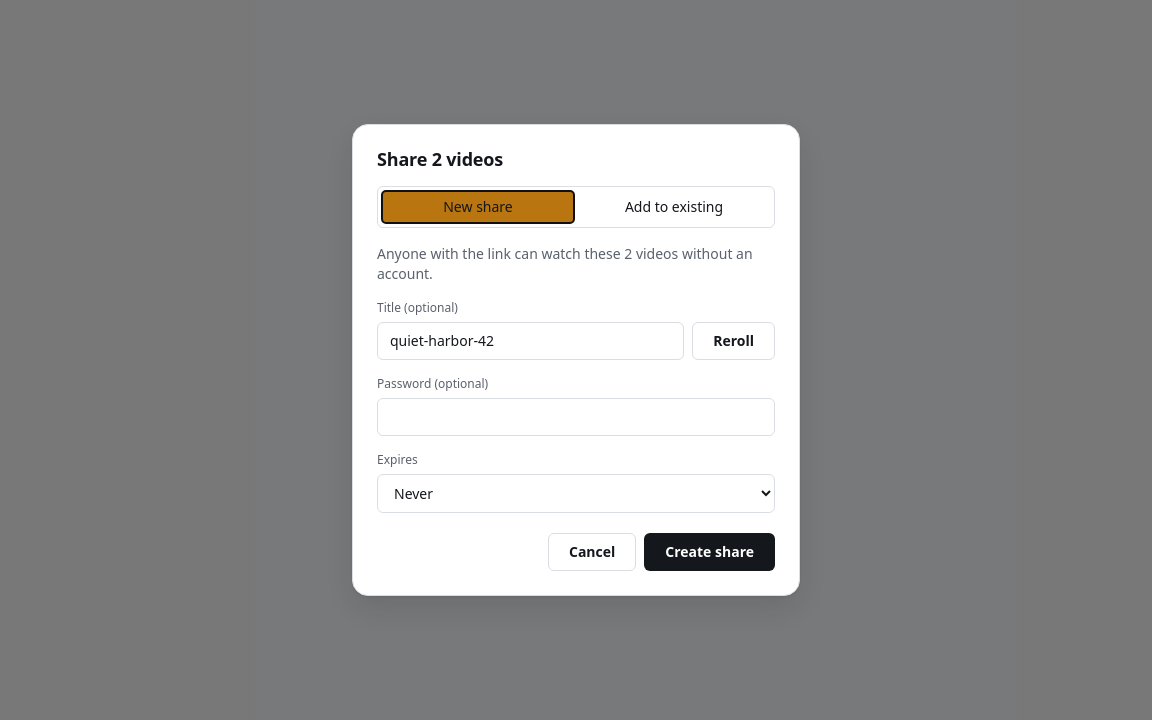
Test: ShareDialog › sends exactly one POST with ids, trimmed title, password, and preset expiry
The image size is (1152, 720).
Replace the text in the field labelled "Title (optional)" with "  Trip footage  " at (531, 341), box [377,322,684,360]
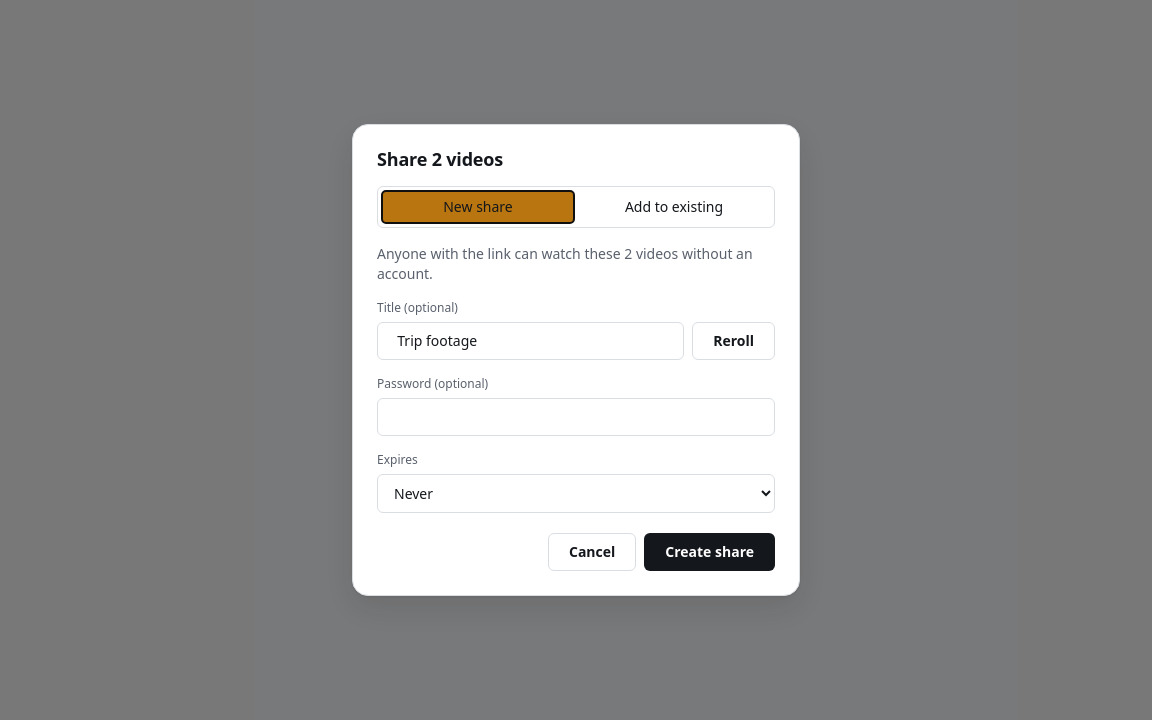
Type "hunter22" into the password field labelled "Password (optional)".
click(576, 417); type("hunter22")  # box [377,398,775,436]
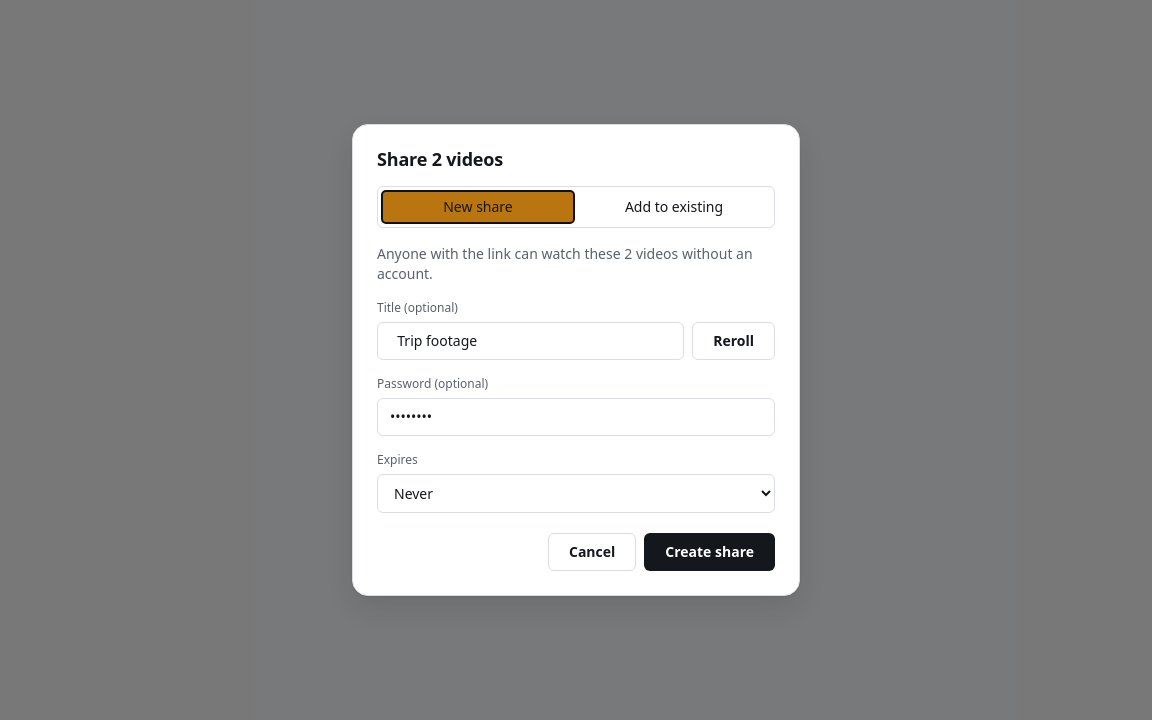
Select "7 days" in the dropdown labelled "Expires" at (576, 494), box [377,474,775,513]
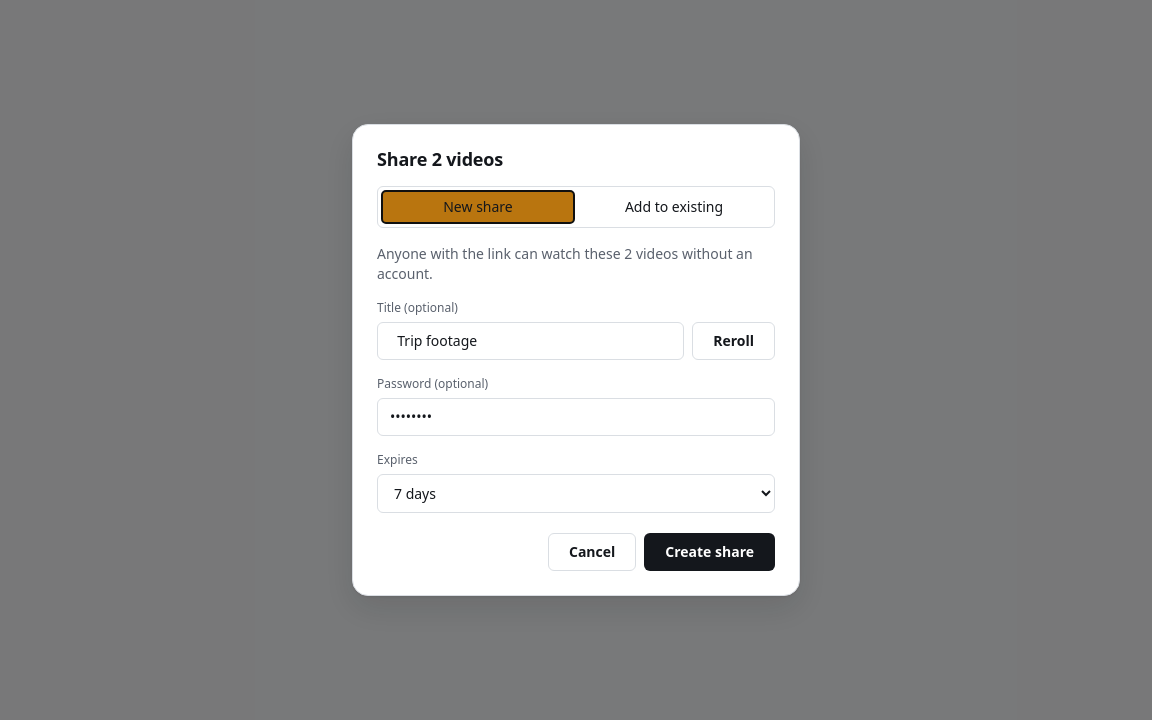
Click the button "Create share".
click(710, 552)  # box [644,533,775,571]
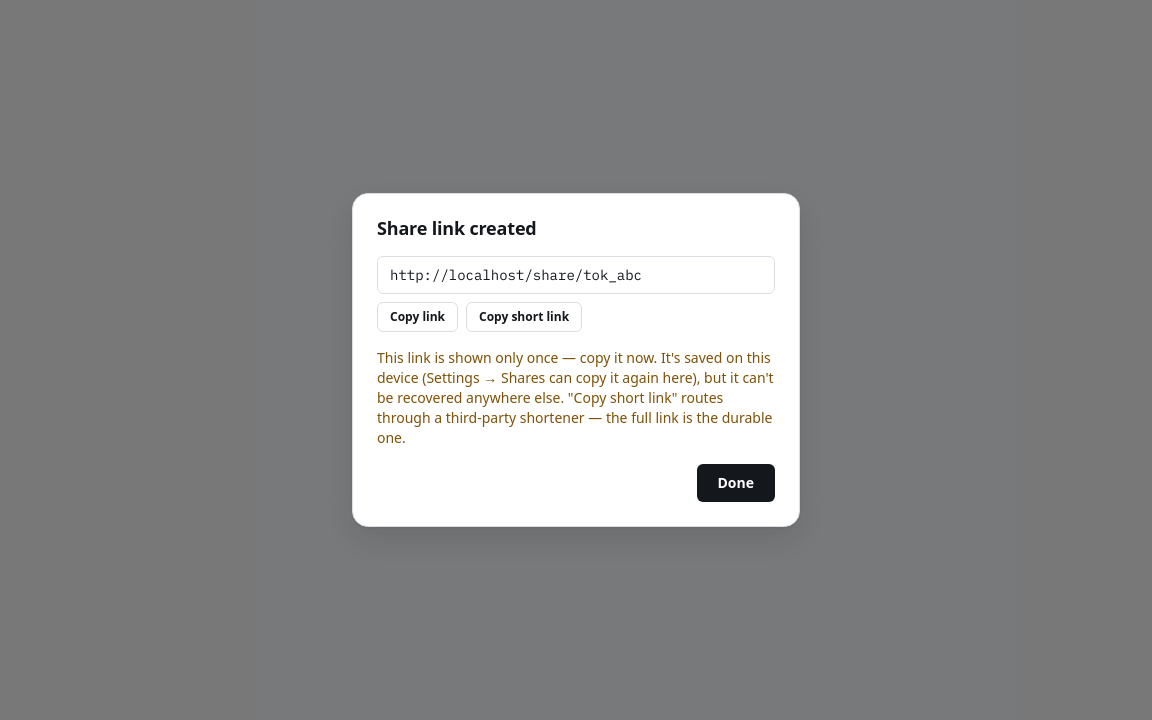
Expected: the text "only once" is shown, [377,348,774,447]
